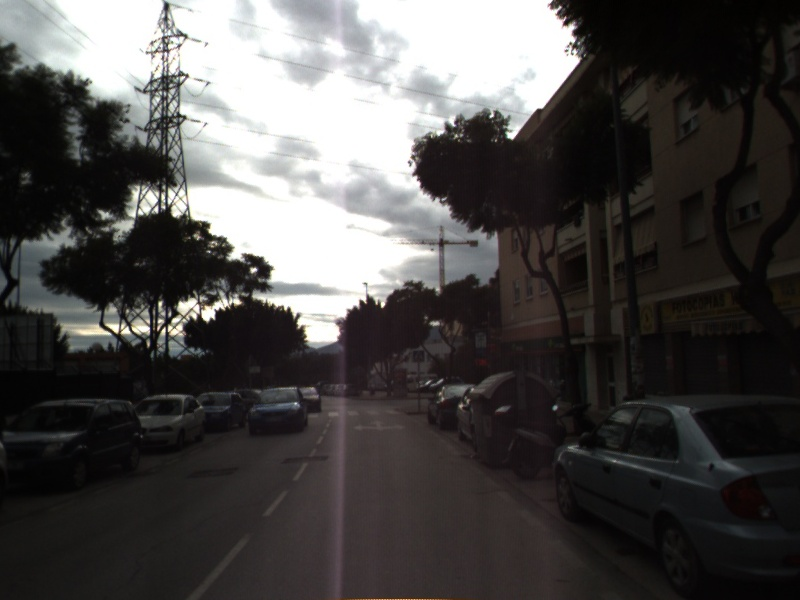STRAIGHT_LEFT_RIGHT: (351, 418, 408, 433)
